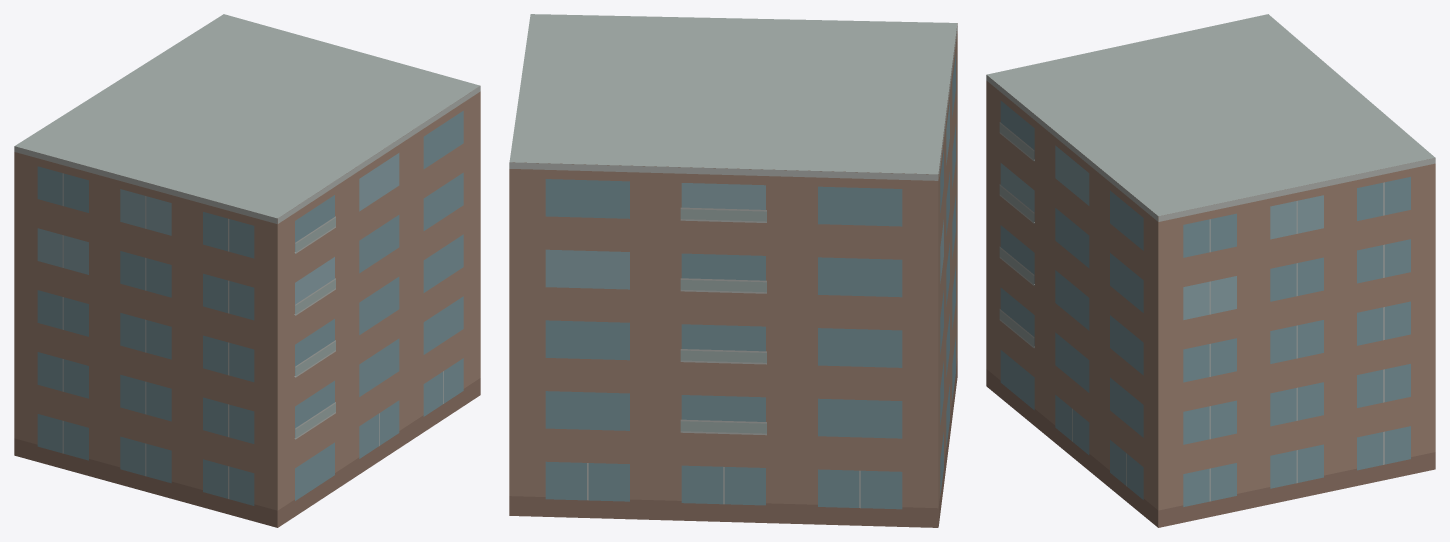
Rendered from survey-upis-32741632.glb.
3 views of the same model, side by side, from view 1: azimuth 30°, elevation 25°; view 2: azimuth 150°, elevation 25°; view 3: azimuth 270°, elevation 25° (orthographic). The views are drawn at different scales.
Visible parts, largest first — view 1: survey-upis-32741632.tmp; view 2: survey-upis-32741632.tmp; view 3: survey-upis-32741632.tmp.
Boxes of the visible parts, x1,y1,x2,y2 form: survey-upis-32741632.tmp: (14,14,480,527); survey-upis-32741632.tmp: (509,14,957,527); survey-upis-32741632.tmp: (986,14,1435,527).
Bounding box in the file's own units: 18.39 × 13.2 × 17.26.
